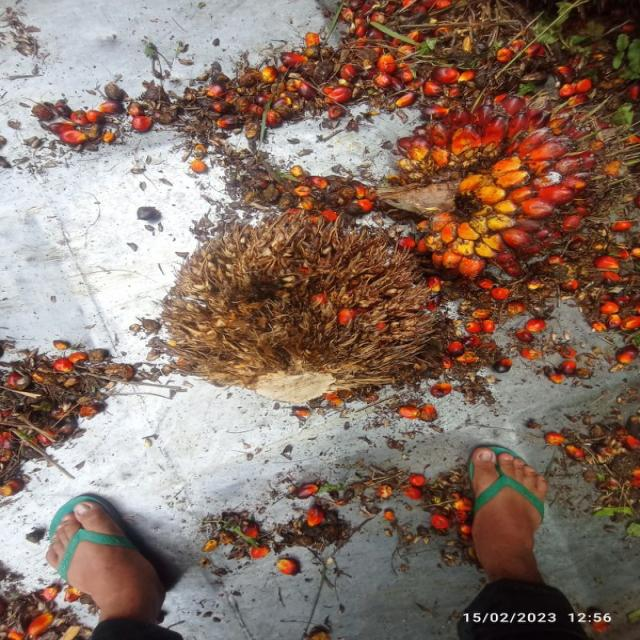fraksi 3: (373, 49, 602, 290)
